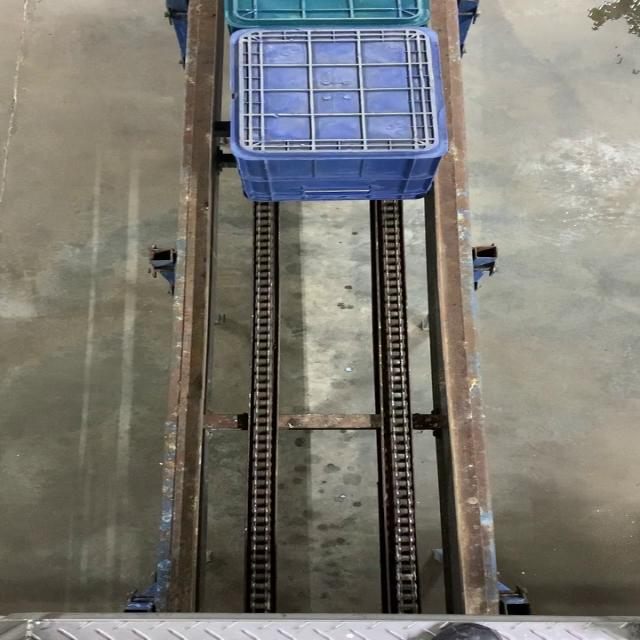Box: (231, 27, 445, 155)
